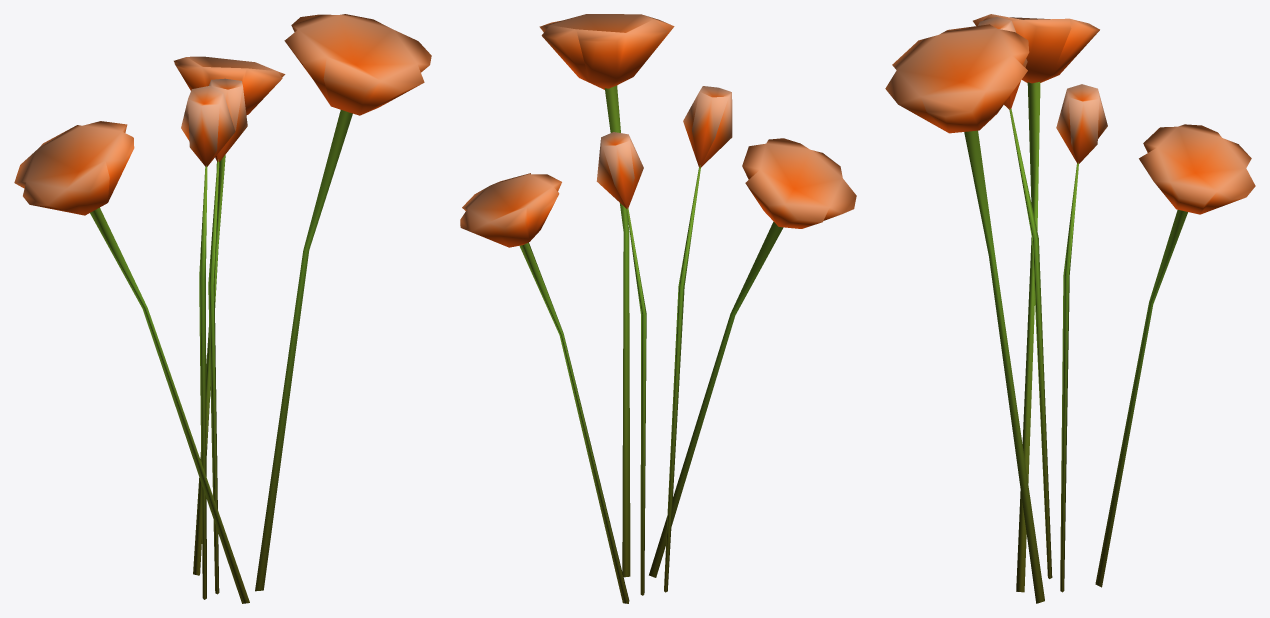
The model's file is TSP_Flower_04B.fbx.
The picture shows the model from 3 angles, left to right: view 1: azimuth 30°, elevation 25°; view 2: azimuth 150°, elevation 25°; view 3: azimuth 270°, elevation 25°; orthographic projection. The views are drawn at different scales.
Parts seen in each view (by area): view 1: TSP_Flower_04B; view 2: TSP_Flower_04B; view 3: TSP_Flower_04B.
Part boxes in pixels (x1,y1,x2,y2): TSP_Flower_04B: [14, 14, 431, 603]; TSP_Flower_04B: [460, 14, 856, 603]; TSP_Flower_04B: [885, 14, 1255, 603].
Bounding box in the file's own units: 0.502 × 0.7547 × 0.4316.
